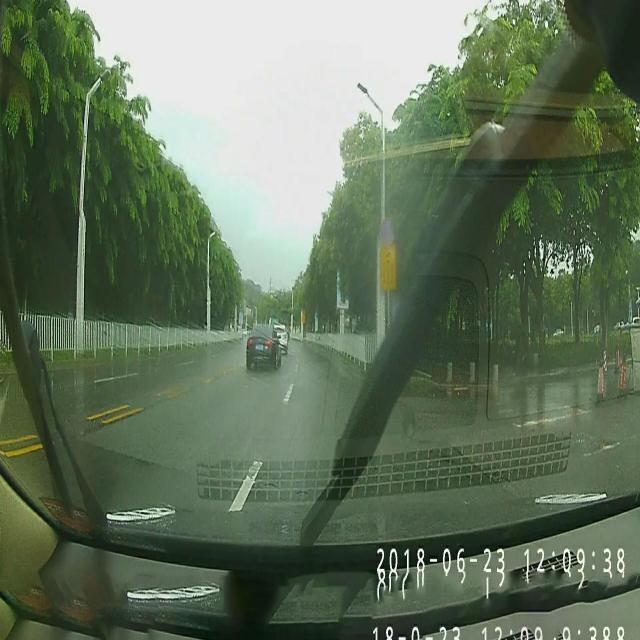car: (246, 326, 280, 370), (274, 322, 289, 351)
